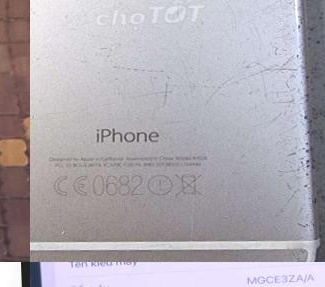scratch: (198, 0, 325, 262), (88, 6, 211, 131)
